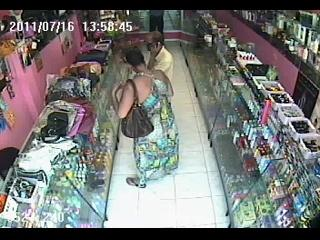Normal: (113, 48, 180, 188), (121, 78, 154, 138), (144, 31, 174, 82)
